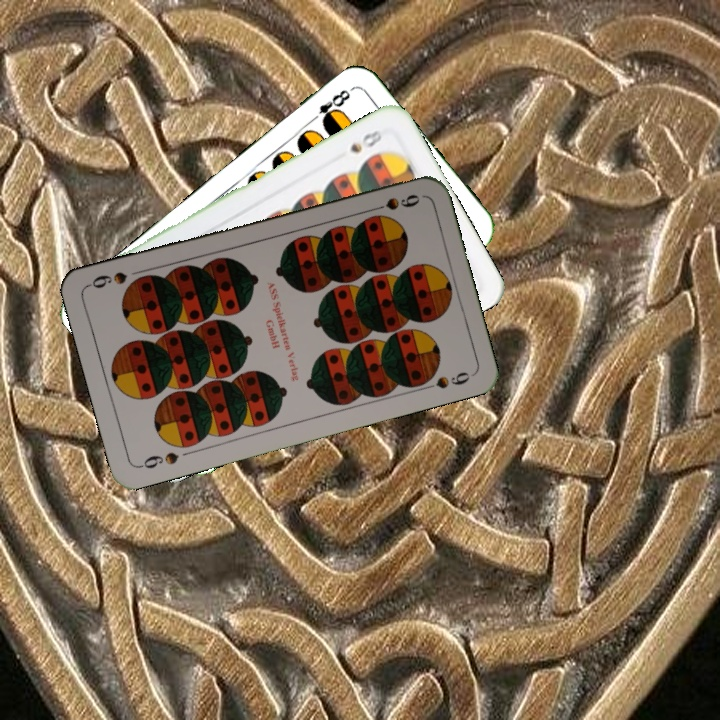E8: (305, 85, 353, 128)
S8: (346, 123, 389, 156)
S9: (365, 190, 423, 215), (135, 447, 181, 472)
